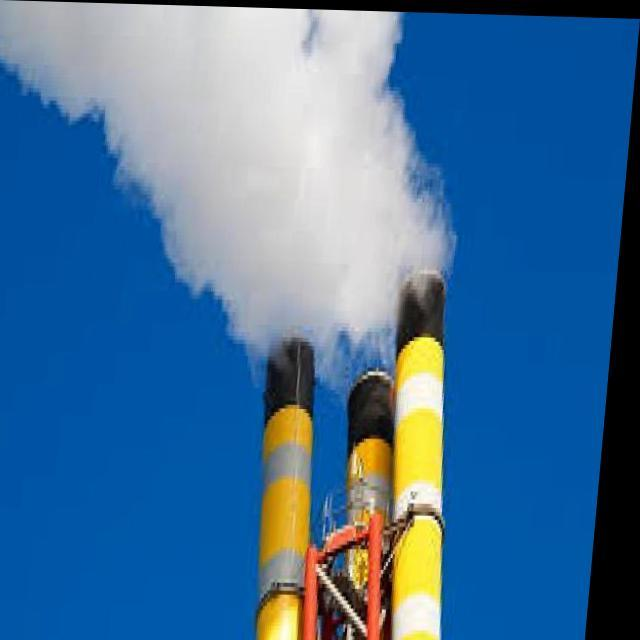Smoke: (0, 0, 482, 405)
